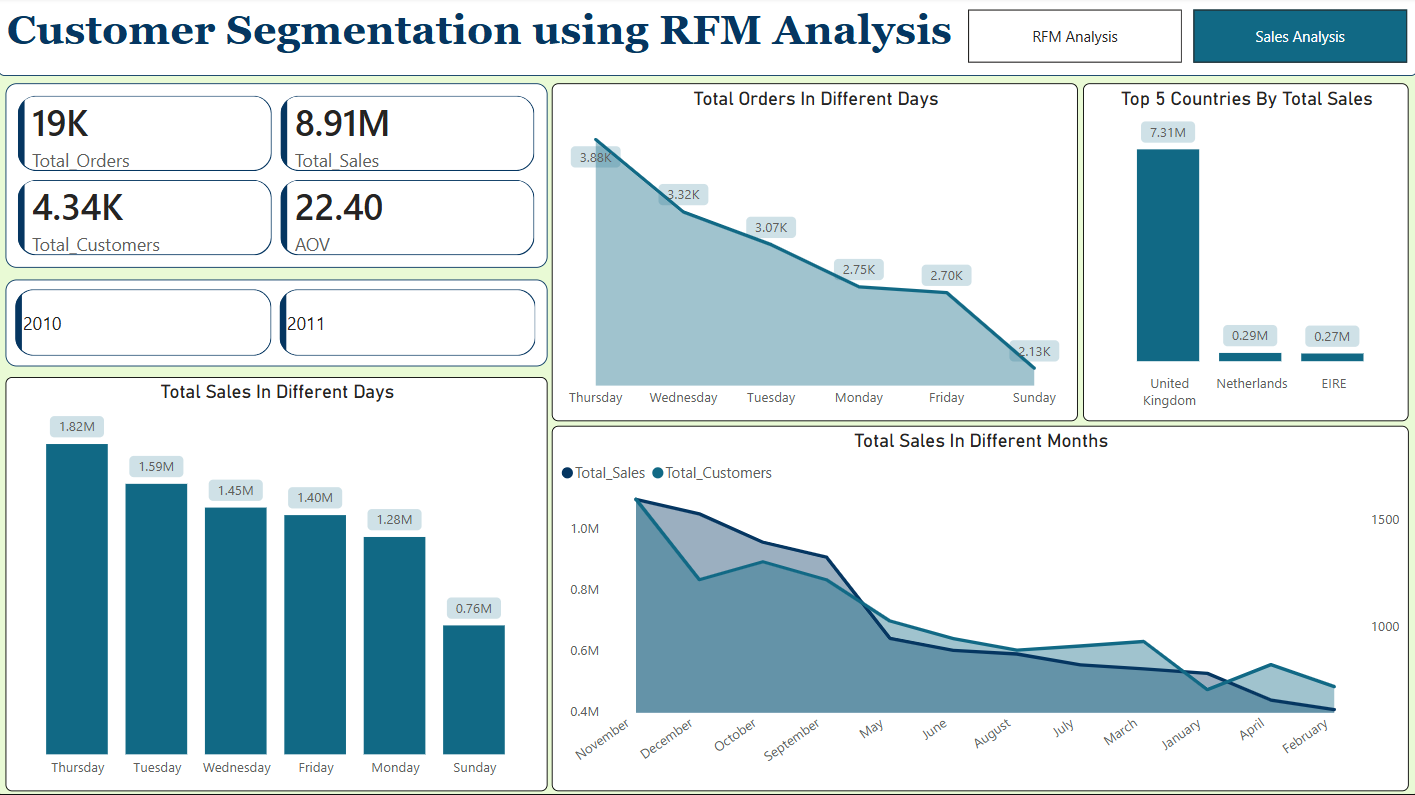

This screenshot's page, from the dashboard's own definition file:
{"tool":"powerbi","page":{"name":"Sales Analysis","canvas":[1280,720],"ordinal":1},"visuals":[{"type":"textbox","box":[0,0,1280.3,71.4],"z":0},{"type":"cardVisual","fields":{"Data":["Online Retail.Total_Orders","Online Retail.Total_Sales","Online Retail.Total_Customers","Online Retail.AOV"]},"box":[6.9,78.2,488.5,166],"z":1000},{"type":"clusteredColumnChart","title":"Top 5 Countries By Total Sales","fields":{"Y":["Online Retail.Total_Sales"],"Category":["Online Retail.Country"]},"box":[978.4,78.2,293.7,304.6],"z":2000},{"type":"areaChart","title":"Total Sales In Different Months","fields":{"Category":["Calendar.Month"],"Y":["Online Retail.Total_Sales"],"Y2":["Online Retail.Total_Customers"]},"box":[499.5,387,772.6,329.3],"z":3000},{"type":"clusteredColumnChart","title":"Total Sales In Different Days","fields":{"Y":["Online Retail.Total_Sales"],"Category":["Calendar.Day"]},"box":[6.9,343.1,488.5,373.2],"z":4000},{"type":"advancedSlicerVisual","fields":{"Values":["Calendar.Year"]},"box":[6.9,255.2,488.5,78.2],"z":5000},{"type":"pageNavigator","box":[874.1,11,397.9,48],"z":6000},{"type":"areaChart","title":"Total Orders In Different Days","fields":{"Category":["Calendar.Day"],"Y":["Online Retail.Total_Orders"]},"box":[499.5,78.2,474.8,304.6],"z":7000}]}

Visuals, with their boxes in screenshot pixels (x1, y1, x2, y2), scaled from the page's 1280x720 canvas onto the 1415x795 screenshot:
textbox: x1=0 y1=0 x2=1414 y2=79
cardVisual - Online Retail.Total_Orders x Online Retail.Total_Sales: x1=8 y1=86 x2=548 y2=270
"Top 5 Countries By Total Sales" clusteredColumnChart: x1=1082 y1=86 x2=1406 y2=423
"Total Sales In Different Months" areaChart: x1=552 y1=427 x2=1406 y2=791
"Total Sales In Different Days" clusteredColumnChart: x1=8 y1=379 x2=548 y2=791
advancedSlicerVisual - Calendar.Year: x1=8 y1=282 x2=548 y2=368
pageNavigator: x1=966 y1=12 x2=1406 y2=65
"Total Orders In Different Days" areaChart: x1=552 y1=86 x2=1077 y2=423
